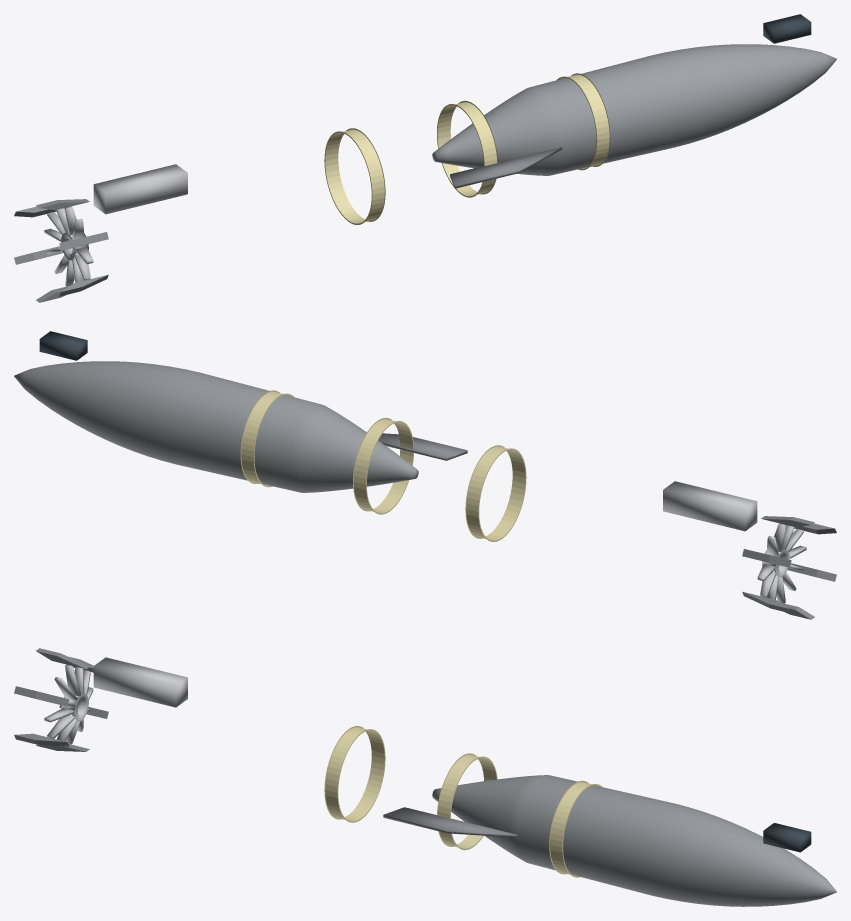
The model's file is FR_TORP_L5_Mod3_LOD0.fbx.
3 views of the same model, one above another, from view 1: azimuth 30°, elevation 25°; view 2: azimuth 150°, elevation 25°; view 3: azimuth 330°, elevation 25° (orthographic).
Parts seen in each view (by area): view 1: WPN_FR_TORP_L5_Mod3_LOD0_Body, WPN_FR_TORP_L5_Mod3_LOD0_Marking, WPN_FR_TORP_L5_Mod3_LOD0_Detail, WPN_FR_TORP_L5_Mod3_LOD0_Propulsor, WPN_FR_TORP_L5_Mod3_LOD0_Fins, WPN_FR_TORP_L5_Mod3_LOD0_Seeker; view 2: WPN_FR_TORP_L5_Mod3_LOD0_Body, WPN_FR_TORP_L5_Mod3_LOD0_Marking, WPN_FR_TORP_L5_Mod3_LOD0_Detail, WPN_FR_TORP_L5_Mod3_LOD0_Propulsor, WPN_FR_TORP_L5_Mod3_LOD0_Fins, WPN_FR_TORP_L5_Mod3_LOD0_Seeker; view 3: WPN_FR_TORP_L5_Mod3_LOD0_Body, WPN_FR_TORP_L5_Mod3_LOD0_Marking, WPN_FR_TORP_L5_Mod3_LOD0_Detail, WPN_FR_TORP_L5_Mod3_LOD0_Propulsor, WPN_FR_TORP_L5_Mod3_LOD0_Fins, WPN_FR_TORP_L5_Mod3_LOD0_Seeker.
Boxes of the visible parts, x1=… form: WPN_FR_TORP_L5_Mod3_LOD0_Body: x1=432, y1=44, x2=836, y2=175; WPN_FR_TORP_L5_Mod3_LOD0_Marking: x1=324, y1=73, x2=610, y2=224; WPN_FR_TORP_L5_Mod3_LOD0_Detail: x1=93, y1=147, x2=562, y2=214; WPN_FR_TORP_L5_Mod3_LOD0_Propulsor: x1=44, y1=206, x2=93, y2=286; WPN_FR_TORP_L5_Mod3_LOD0_Fins: x1=14, y1=199, x2=108, y2=302; WPN_FR_TORP_L5_Mod3_LOD0_Seeker: x1=763, y1=14, x2=811, y2=43; WPN_FR_TORP_L5_Mod3_LOD0_Body: x1=14, y1=361, x2=418, y2=492; WPN_FR_TORP_L5_Mod3_LOD0_Marking: x1=240, y1=390, x2=526, y2=541; WPN_FR_TORP_L5_Mod3_LOD0_Detail: x1=378, y1=433, x2=757, y2=531; WPN_FR_TORP_L5_Mod3_LOD0_Propulsor: x1=757, y1=523, x2=806, y2=603; WPN_FR_TORP_L5_Mod3_LOD0_Fins: x1=742, y1=516, x2=836, y2=619; WPN_FR_TORP_L5_Mod3_LOD0_Seeker: x1=39, y1=331, x2=87, y2=360; WPN_FR_TORP_L5_Mod3_LOD0_Body: x1=432, y1=775, x2=836, y2=906; WPN_FR_TORP_L5_Mod3_LOD0_Marking: x1=324, y1=726, x2=601, y2=877; WPN_FR_TORP_L5_Mod3_LOD0_Detail: x1=93, y1=657, x2=516, y2=837; WPN_FR_TORP_L5_Mod3_LOD0_Propulsor: x1=44, y1=664, x2=93, y2=746; WPN_FR_TORP_L5_Mod3_LOD0_Fins: x1=14, y1=648, x2=108, y2=751; WPN_FR_TORP_L5_Mod3_LOD0_Seeker: x1=763, y1=823, x2=811, y2=852.
Size of the model in its own units: 5.18 by 0.6716 by 0.6051.
